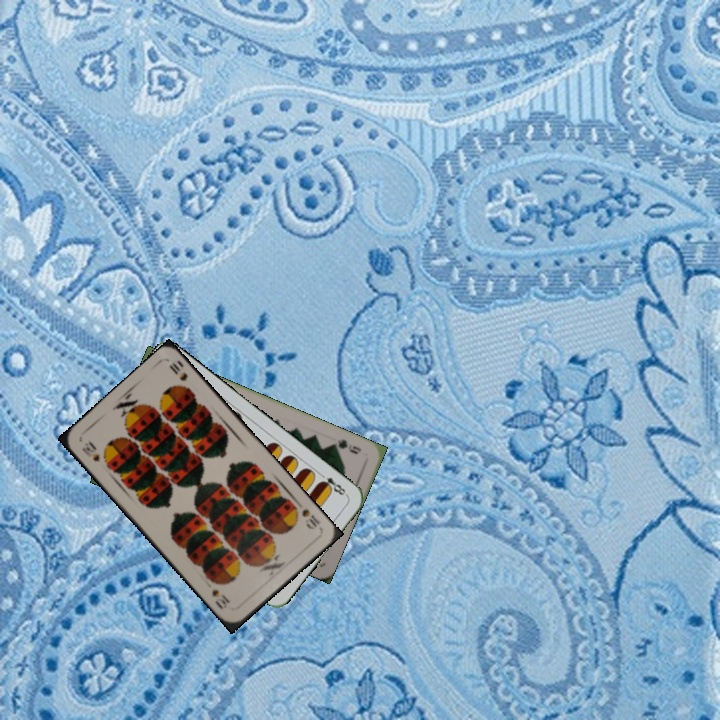E8: (316, 469, 350, 499)
G9: (327, 435, 364, 457)
S10: (289, 502, 323, 532), (78, 438, 103, 464)
